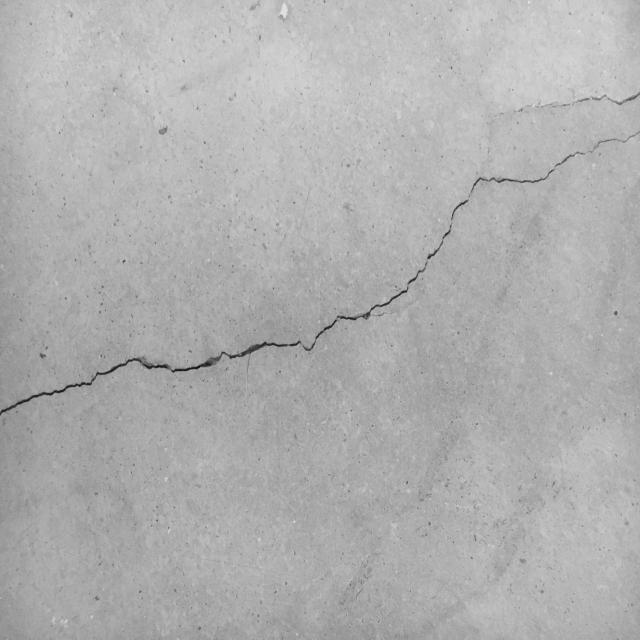SurfaceCrack: (1, 4, 640, 469)
